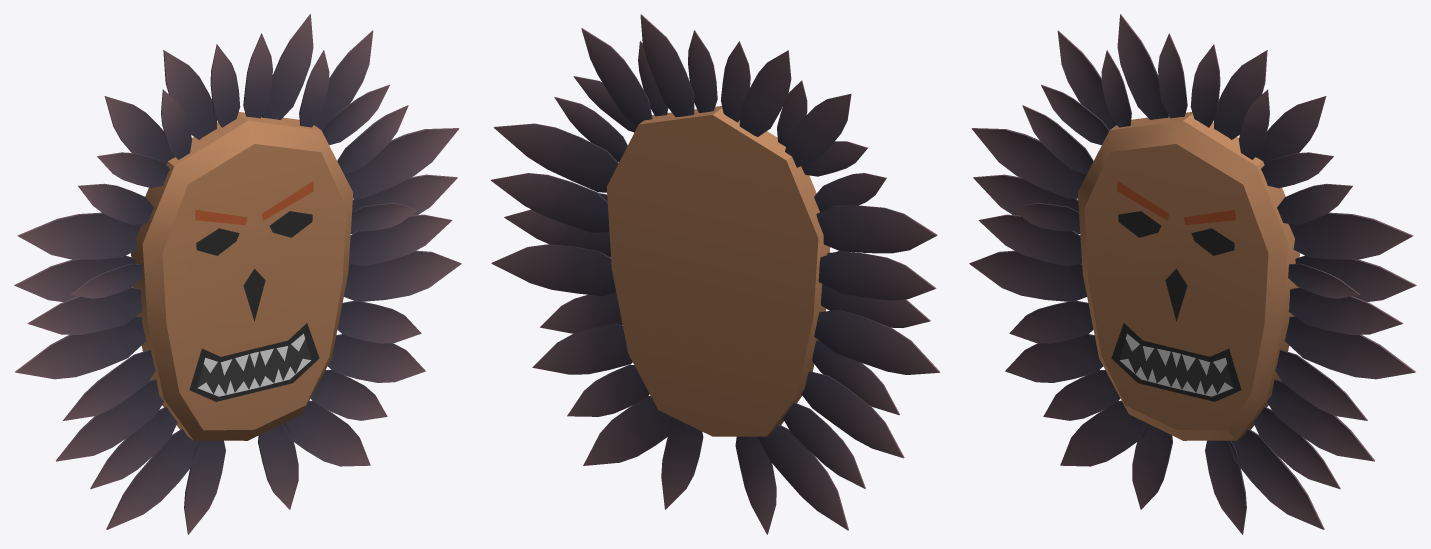
The model's file is Mask_03.fbx.
3 views of the same model, side by side, from view 1: azimuth 30°, elevation 25°; view 2: azimuth 150°, elevation 25°; view 3: azimuth 330°, elevation 25° (orthographic).
Parts seen in each view (by area): view 1: Mask_03_LOD0; view 2: Mask_03_LOD0; view 3: Mask_03_LOD0.
Part boxes in pixels (left/top/right/bottom): Mask_03_LOD0: left=14, top=14, right=461, bottom=534; Mask_03_LOD0: left=490, top=14, right=940, bottom=534; Mask_03_LOD0: left=969, top=14, right=1416, bottom=534.
Size of what is drawn, in the model's own units: 0.4394 by 0.4599 by 0.0331.
